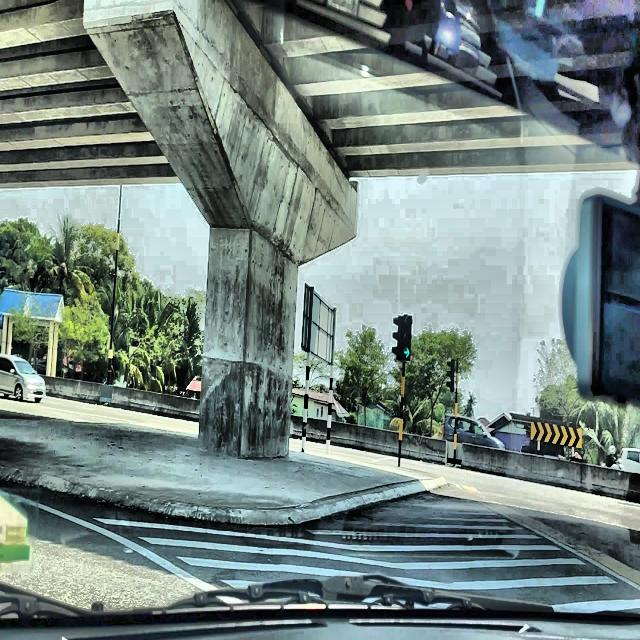green: (400, 315, 412, 359)
